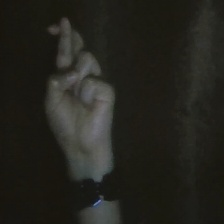R: (33, 9, 131, 160)
